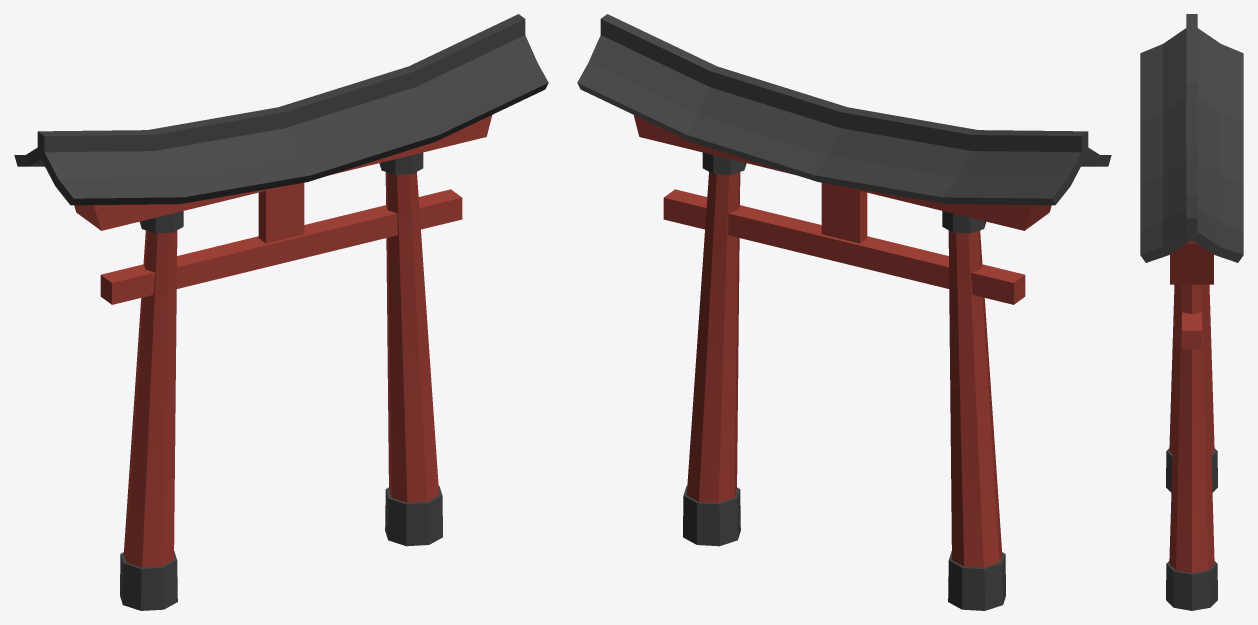
File: toriiGate.fbx
3 renders of one model, left to right at view 1: azimuth 30°, elevation 25°; view 2: azimuth 150°, elevation 25°; view 3: azimuth 270°, elevation 25°, orthographic. The views are drawn at different scales.
Visible parts, largest first — view 1: ToriiGate; view 2: ToriiGate; view 3: ToriiGate.
Part boxes in pixels (left/top/right/bottom): ToriiGate: left=14, top=14, right=548, bottom=610; ToriiGate: left=577, top=14, right=1111, bottom=610; ToriiGate: left=1140, top=14, right=1243, bottom=610.
Size of the model in its own units: 3.63 by 3.54 by 0.7777.
